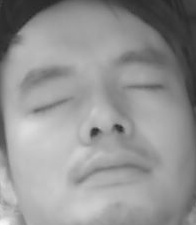blink: (33, 95, 72, 116), (121, 79, 162, 98)
mouth: (69, 147, 150, 191)
